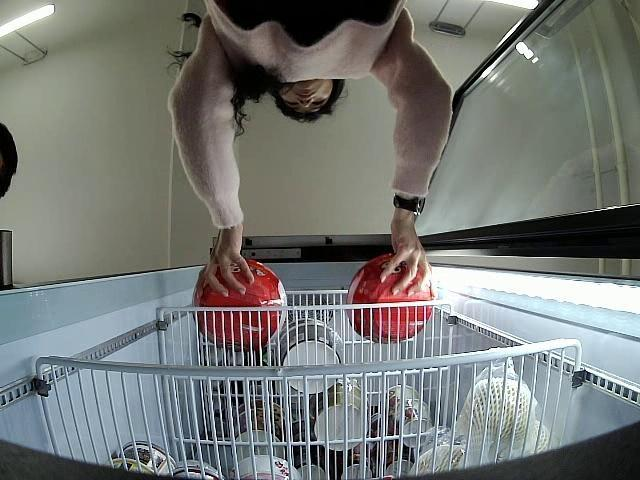10_wangTtukkeong: (191, 260, 288, 351), (344, 256, 432, 342)
